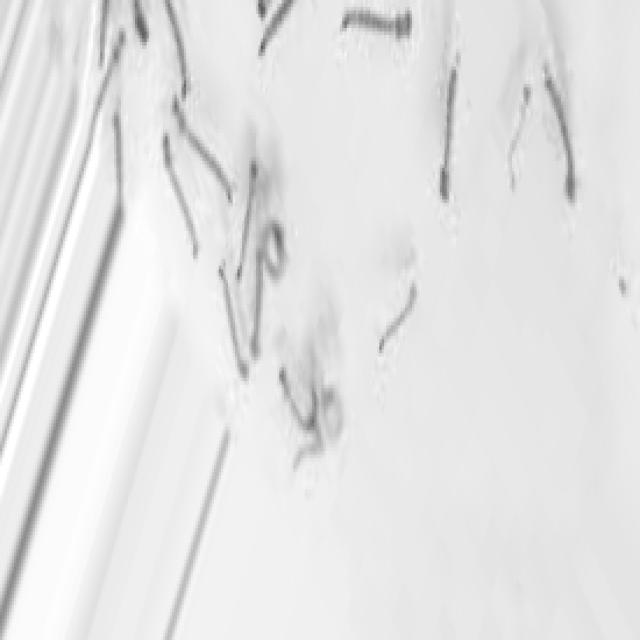larvas: (165, 88, 238, 207), (155, 132, 204, 269), (276, 347, 321, 436), (217, 265, 251, 376), (97, 0, 152, 67), (546, 70, 575, 196), (160, 0, 194, 103), (93, 26, 130, 114), (441, 52, 458, 205), (237, 161, 258, 271), (342, 7, 414, 39), (508, 89, 530, 187), (383, 289, 416, 351), (256, 0, 293, 54), (289, 423, 326, 471), (319, 379, 349, 436), (259, 216, 285, 276), (252, 257, 266, 357)
